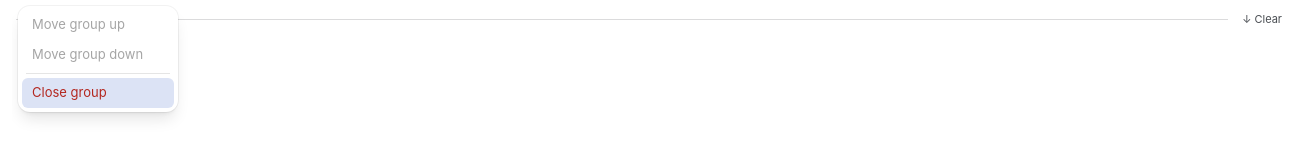
Test: offers the moves and "Close group" in the right-click menu of a Tab group header
This screenshot has width=1292, height=160.
Click the menu item "Close group": point(98, 93) [22, 78, 174, 108]
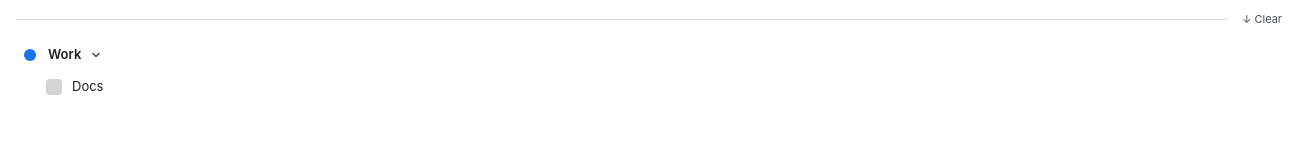
Check: the menu is gone
